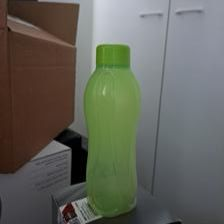bottle: (82, 42, 142, 213)
